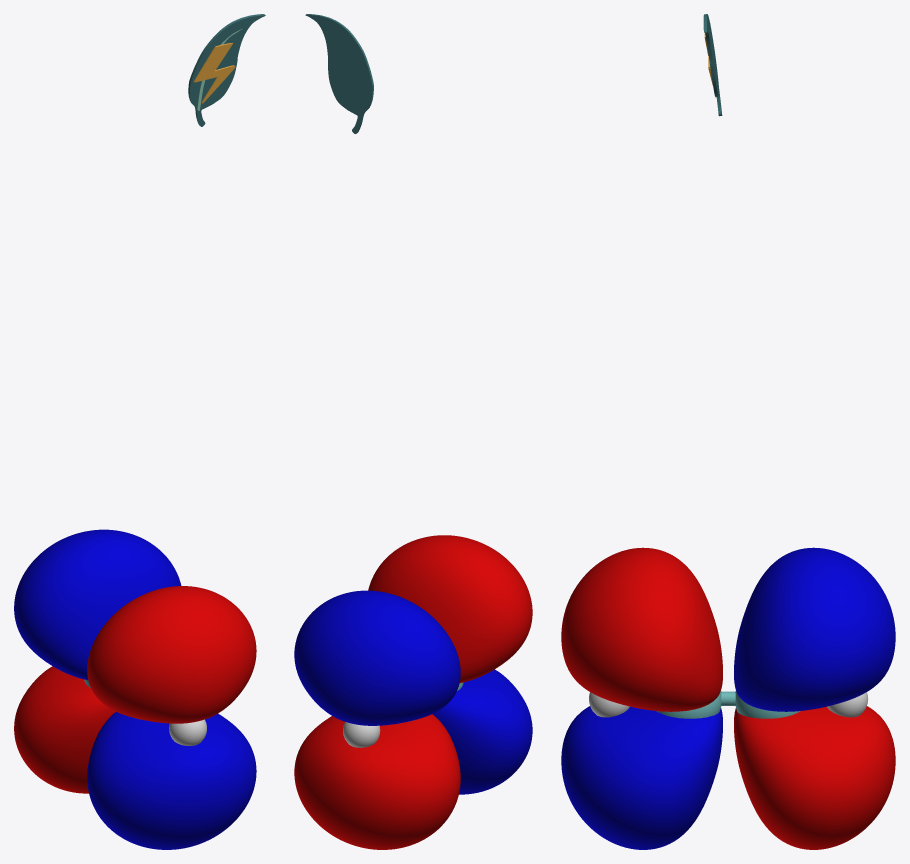
The model's file is c2h2_trip_ae.glb.
The picture shows the model from 3 angles, left to right: view 1: azimuth 30°, elevation 25°; view 2: azimuth 150°, elevation 25°; view 3: azimuth 270°, elevation 25°; orthographic projection. The views are drawn at different scales.
Parts seen in each view (by area): view 1: c2h2_trip_ae, path182, path186; view 2: c2h2_trip_ae, path182; view 3: c2h2_trip_ae, path182.
Part boxes in pixels (x1,y1,x2,y2): c2h2_trip_ae: (14,529,256,849); path182: (188,14,265,126); path186: (193,43,235,103); c2h2_trip_ae: (294,535,532,849); path182: (305,14,373,133); c2h2_trip_ae: (561,547,895,849); path182: (703,14,722,116).
Bounding box in the file's own units: 1.61 × 6.12 × 2.12.
